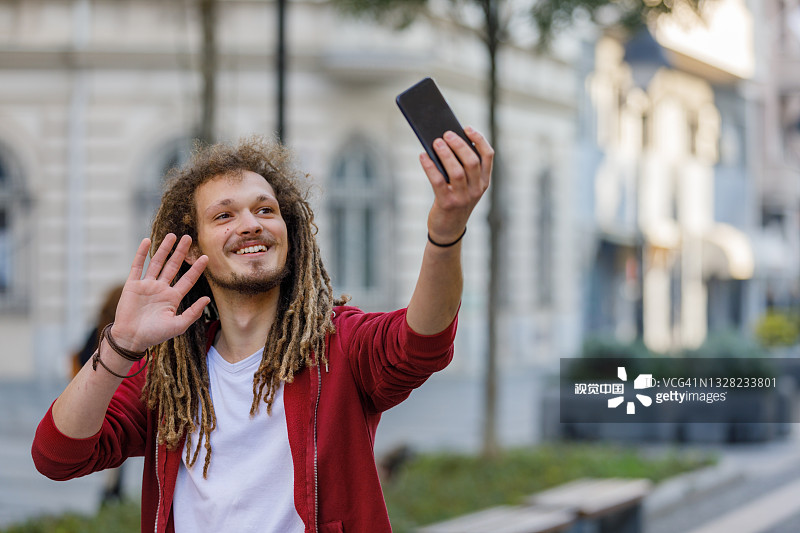no-phone: (101, 225, 220, 366)
taking photos: (380, 87, 512, 250)
